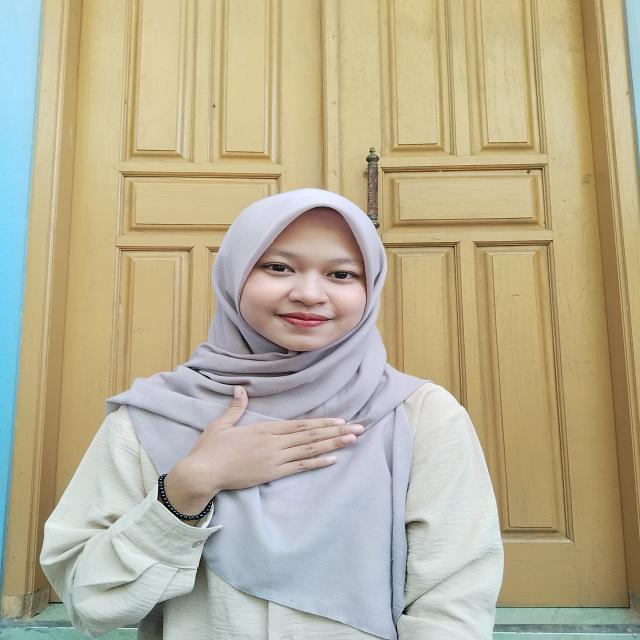tolong: (136, 384, 371, 524)
